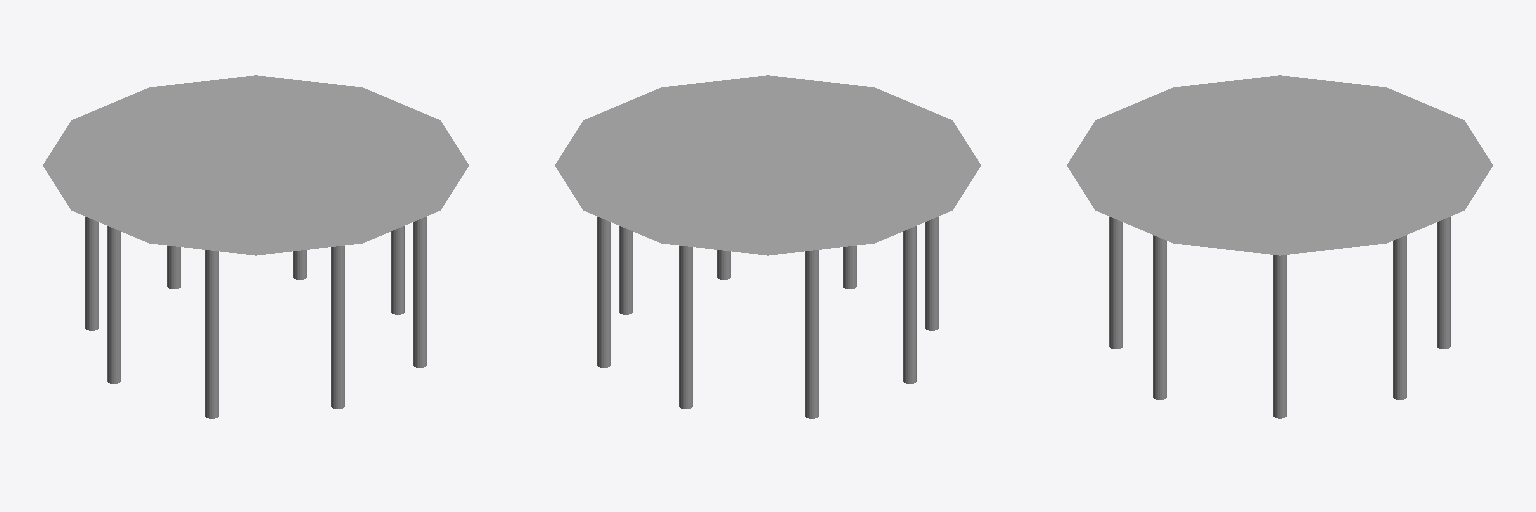
File: cattable.obj
3 views of the same model, side by side, from view 1: azimuth 30°, elevation 25°; view 2: azimuth 150°, elevation 25°; view 3: azimuth 270°, elevation 25° (orthographic).
Parts seen in each view (by area): view 1: Cone, Cylinder7, Cylinder1, Cylinder3, Cylinder6, Cylinder4, Cylinder2, Cylinder; view 2: Cone, Cylinder4, Cylinder, Cylinder3, Cylinder5, Cylinder7, Cylinder2, Cylinder1; view 3: Cone, Cylinder2, Cylinder6, Cylinder5, Cylinder1, Cylinder.
Boxes of the visible parts, x1,y1,x2,y2 form: Cone: [43, 75, 468, 255]; Cylinder7: [205, 250, 218, 418]; Cylinder1: [331, 246, 344, 408]; Cylinder3: [107, 226, 120, 383]; Cylinder6: [413, 217, 426, 367]; Cylinder4: [85, 217, 98, 330]; Cylinder2: [391, 226, 404, 314]; Cylinder: [167, 246, 180, 288]; Cone: [555, 75, 980, 255]; Cylinder4: [805, 250, 818, 418]; Cylinder: [679, 246, 692, 408]; Cylinder3: [903, 226, 916, 383]; Cylinder5: [597, 217, 610, 367]; Cylinder7: [925, 217, 938, 330]; Cylinder2: [619, 226, 632, 314]; Cylinder1: [843, 246, 856, 288]; Cone: [1067, 75, 1492, 255]; Cylinder2: [1273, 255, 1286, 418]; Cylinder6: [1153, 235, 1166, 399]; Cylinder5: [1393, 235, 1406, 399]; Cylinder1: [1109, 217, 1122, 348]; Cylinder: [1437, 217, 1450, 348].
Size of the model in its own units: 1.95 by 0.915 by 1.95.